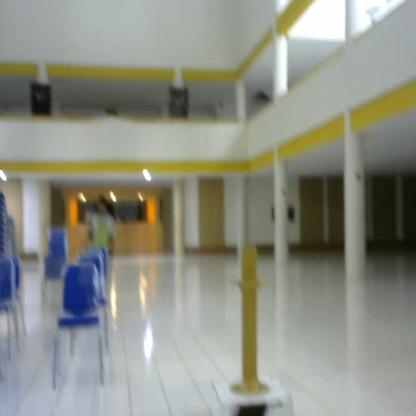pole: (223, 239, 282, 416)
